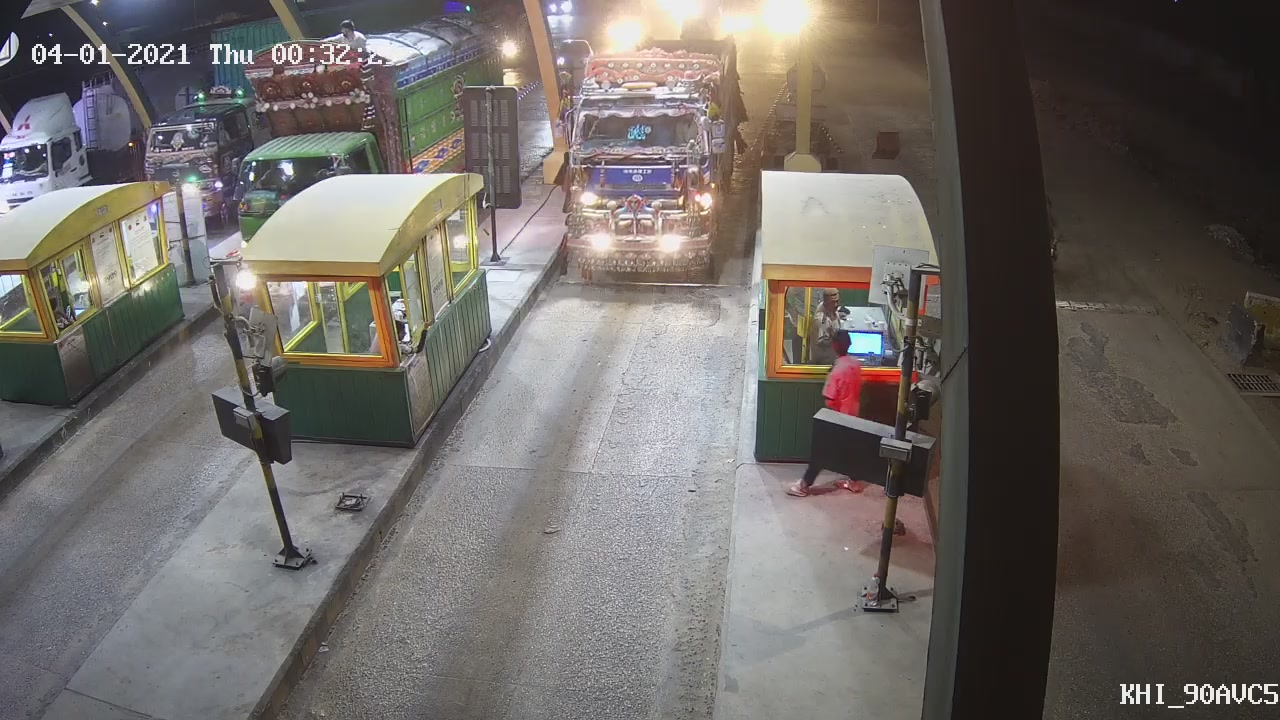F5: (546, 48, 745, 317)
